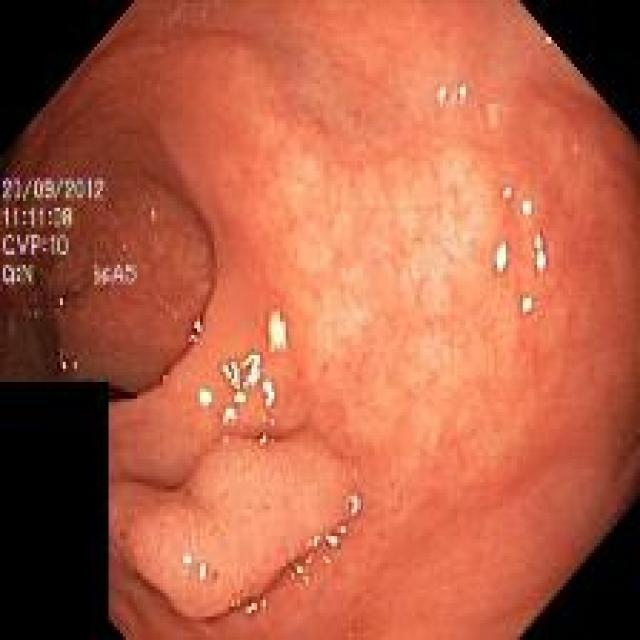Polyps: (111, 432, 351, 621)
